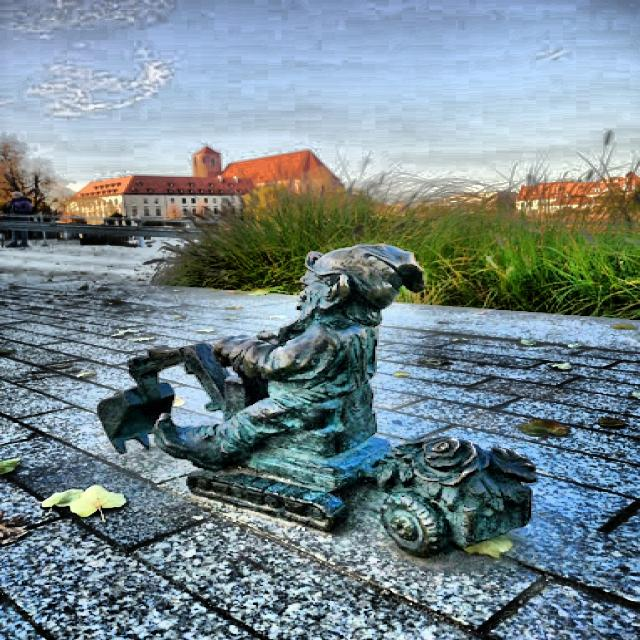Koparkus: (100, 244, 536, 556)
